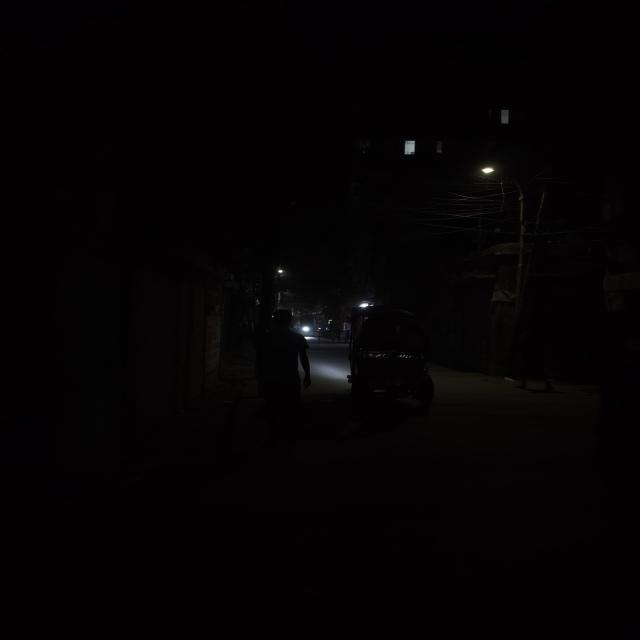pedestrian: (253, 312, 309, 412)
rickshaw: (341, 302, 443, 409), (296, 310, 321, 336)
